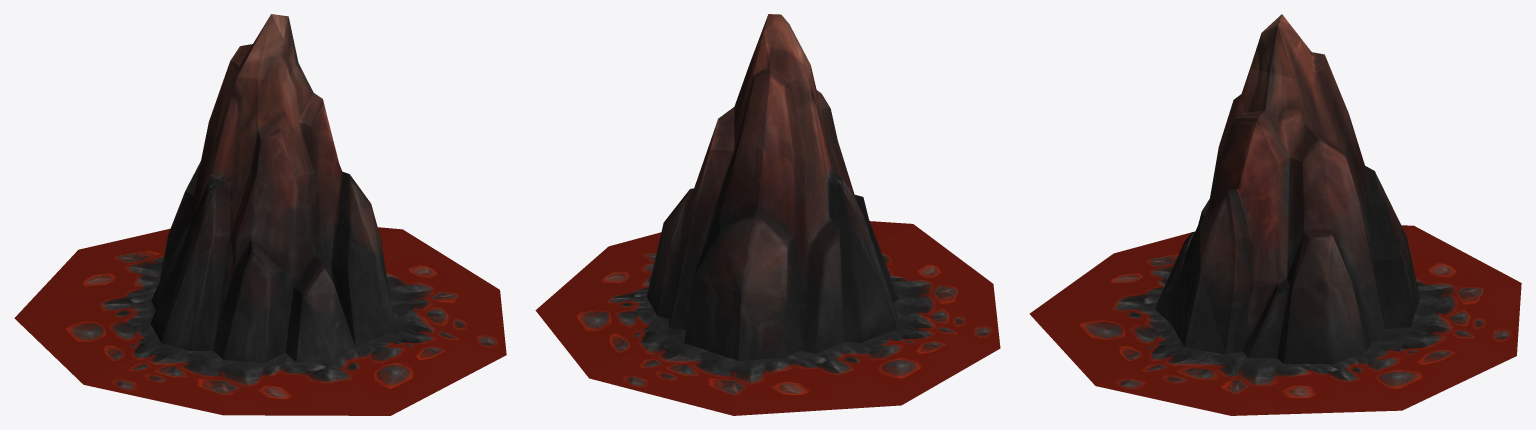
Rendered from rock_footer02.fbx.
The picture shows the model from 3 angles, left to right: view 1: azimuth 30°, elevation 25°; view 2: azimuth 150°, elevation 25°; view 3: azimuth 270°, elevation 25°; orthographic projection. The views are drawn at different scales.
Parts seen in each view (by area): view 1: obj1.049; view 2: obj1.049; view 3: obj1.049.
Boxes of the visible parts, box(x1,y1,x2,y2) form: obj1.049: box(14, 14, 506, 415); obj1.049: box(535, 14, 1000, 415); obj1.049: box(1029, 14, 1521, 415).
Bounding box in the file's own units: 13.28 × 9.5 × 13.94.
